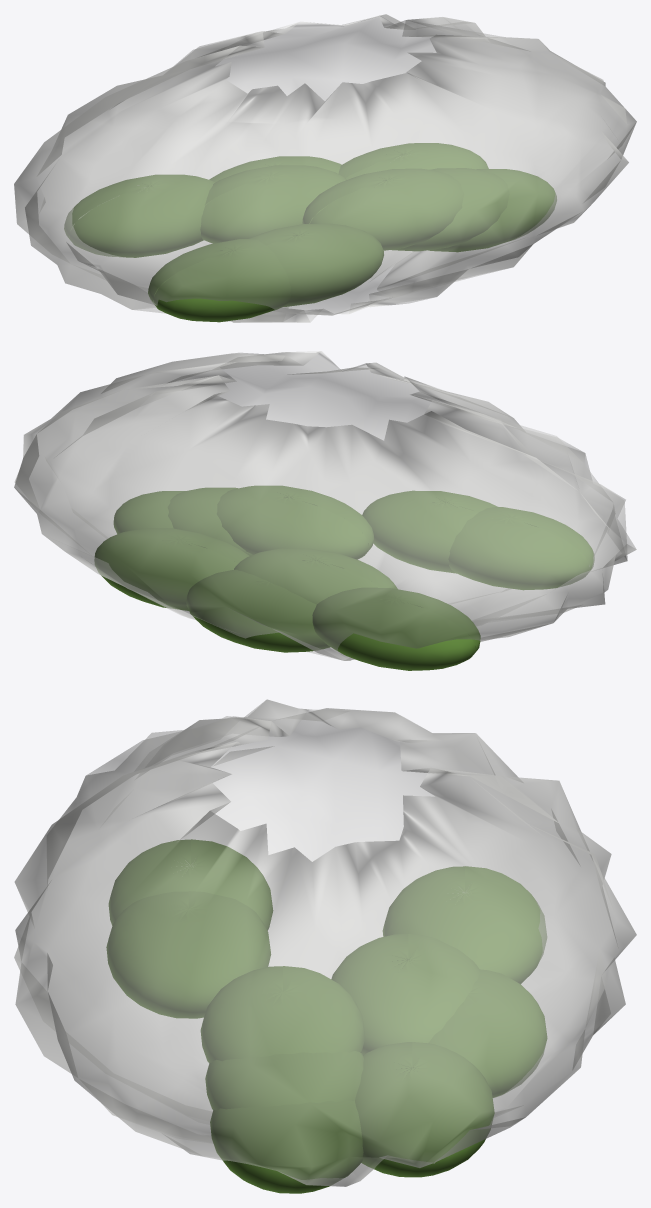
3 renders of one model, top to bottom at view 1: azimuth 30°, elevation 25°; view 2: azimuth 150°, elevation 25°; view 3: azimuth 270°, elevation 25°, orthographic. The views are drawn at different scales.
Visible parts, largest first — view 1: open crumpled film bag, leaf cluster.007, leaf cluster.002, leaf cluster.008, leaf cluster.004, leaf cluster.005, leaf cluster.006, leaf cluster.001, leaf cluster.003, leaf cluster; view 2: open crumpled film bag, leaf cluster.007, leaf cluster.002, leaf cluster.008, leaf cluster.003, leaf cluster, leaf cluster.005, leaf cluster.004, leaf cluster.001, leaf cluster.006; view 3: open crumpled film bag, leaf cluster.005, leaf cluster.003, leaf cluster.008, leaf cluster.007, leaf cluster.006, leaf cluster.004, leaf cluster, leaf cluster.002, leaf cluster.001.
Boxes of the visible parts, <box> form: open crumpled film bag: <box>14,14,636,322</box>; leaf cluster.007: <box>64,174,215,257</box>; leaf cluster.002: <box>148,239,290,322</box>; leaf cluster.008: <box>302,168,464,250</box>; leaf cluster.004: <box>200,165,346,243</box>; leaf cluster.005: <box>232,223,383,306</box>; leaf cluster.006: <box>428,169,556,252</box>; leaf cluster.001: <box>391,168,509,251</box>; leaf cluster.003: <box>338,143,488,179</box>; leaf cluster: <box>209,156,341,188</box>; open crumpled film bag: <box>14,351,636,660</box>; leaf cluster.007: <box>312,587,480,670</box>; leaf cluster.002: <box>448,507,594,590</box>; leaf cluster.008: <box>217,485,373,560</box>; leaf cluster.003: <box>94,528,249,610</box>; leaf cluster: <box>186,569,330,652</box>; leaf cluster.005: <box>362,490,514,573</box>; leaf cluster.004: <box>234,548,397,604</box>; leaf cluster.001: <box>167,487,252,555</box>; leaf cluster.006: <box>113,491,184,540</box>; open crumpled film bag: <box>14,699,636,1186</box>; leaf cluster.005: <box>106,891,270,1018</box>; leaf cluster.003: <box>355,1042,494,1177</box>; leaf cluster.008: <box>200,966,365,1062</box>; leaf cluster.007: <box>382,866,546,983</box>; leaf cluster.006: <box>210,1100,363,1193</box>; leaf cluster.004: <box>331,933,480,1054</box>; leaf cluster: <box>401,969,547,1097</box>; leaf cluster.002: <box>108,839,273,930</box>; leaf cluster.001: <box>205,1051,363,1110</box>.
Bounding box in the file's own units: 0.239 × 0.0991 × 0.1609.
